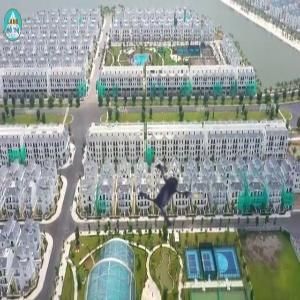drone: (130, 153, 220, 243)
